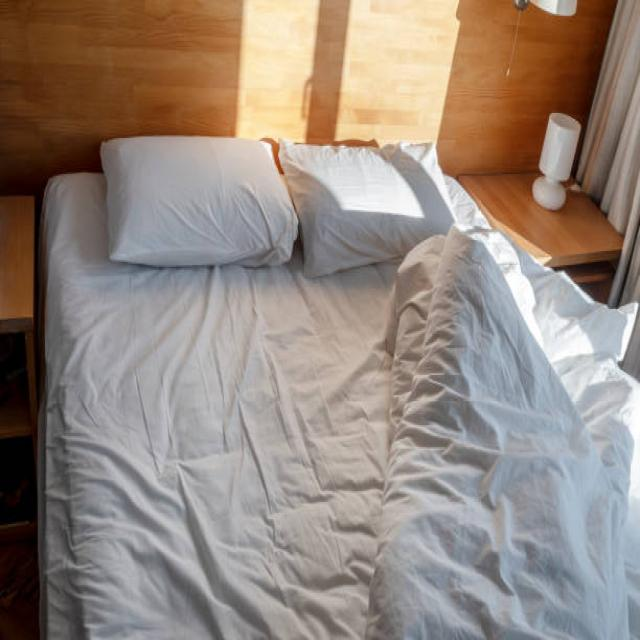bed: (18, 106, 640, 640)
